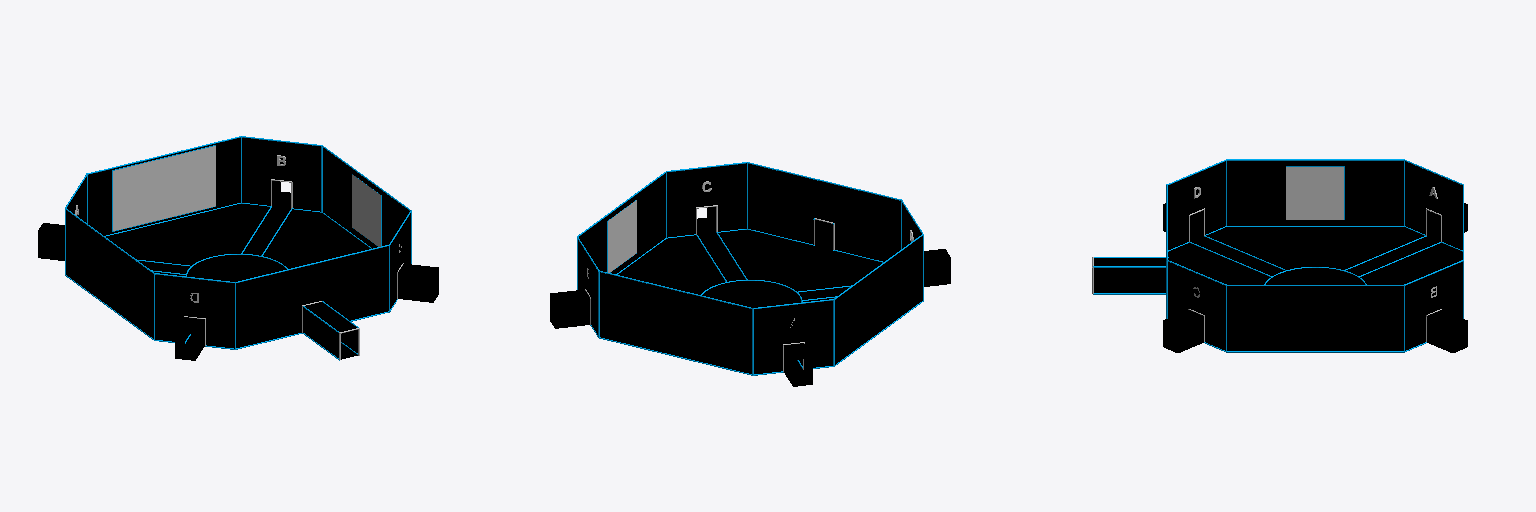
The model's file is NewPlatform2.obj.
The picture shows the model from 3 angles: view 1: azimuth 30°, elevation 25°; view 2: azimuth 150°, elevation 25°; view 3: azimuth 270°, elevation 25°; orthographic projection.
Parts seen in each view (by area): view 1: Plane.007, Plane.014, Plane.015, Plane.003, Plane.021, Plane.018, Plane.006, Plane.004, Plane.027, Plane.022, Plane.011; view 2: Plane.007, Plane.014, Plane.006, Plane.003, Plane.011, Plane.027, Plane.004, Plane.018, Plane.015, Plane.022, Plane.021; view 3: Plane.007, Plane.004, Plane.003, Plane.027, Plane.018, Plane.011, Plane.021, Plane.023, Plane.014.
Part boxes in pixels (bbox=[...]): Plane.007: bbox=[106, 204, 370, 344]; Plane.014: bbox=[236, 246, 388, 359]; Plane.015: bbox=[112, 145, 215, 231]; Plane.003: bbox=[66, 210, 153, 338]; Plane.021: bbox=[155, 275, 234, 360]; Plane.018: bbox=[242, 138, 320, 211]; Plane.006: bbox=[88, 138, 240, 235]; Plane.004: bbox=[323, 148, 409, 248]; Plane.027: bbox=[390, 213, 438, 308]; Plane.022: bbox=[352, 174, 381, 246]; Plane.011: bbox=[38, 177, 86, 260]; Plane.007: bbox=[618, 230, 881, 370]; Plane.014: bbox=[748, 164, 900, 261]; Plane.006: bbox=[600, 272, 751, 373]; Plane.003: bbox=[835, 236, 922, 364]; Plane.011: bbox=[754, 301, 832, 386]; Plane.027: bbox=[667, 163, 746, 237]; Plane.004: bbox=[579, 173, 665, 273]; Plane.018: bbox=[550, 240, 597, 334]; Plane.015: bbox=[624, 280, 727, 359]; Plane.022: bbox=[607, 200, 636, 272]; Plane.021: bbox=[902, 203, 950, 286]; Plane.007: bbox=[1168, 227, 1462, 284]; Plane.004: bbox=[1227, 286, 1403, 350]; Plane.003: bbox=[1227, 161, 1403, 225]; Plane.027: bbox=[1163, 262, 1225, 352]; Plane.018: bbox=[1405, 262, 1467, 352]; Plane.011: bbox=[1405, 161, 1467, 249]; Plane.021: bbox=[1163, 161, 1225, 249]; Plane.023: bbox=[1286, 166, 1344, 219]; Plane.014: bbox=[1094, 258, 1165, 292].
Size of the model in its own units: 20.54 by 5.05 by 25.32.